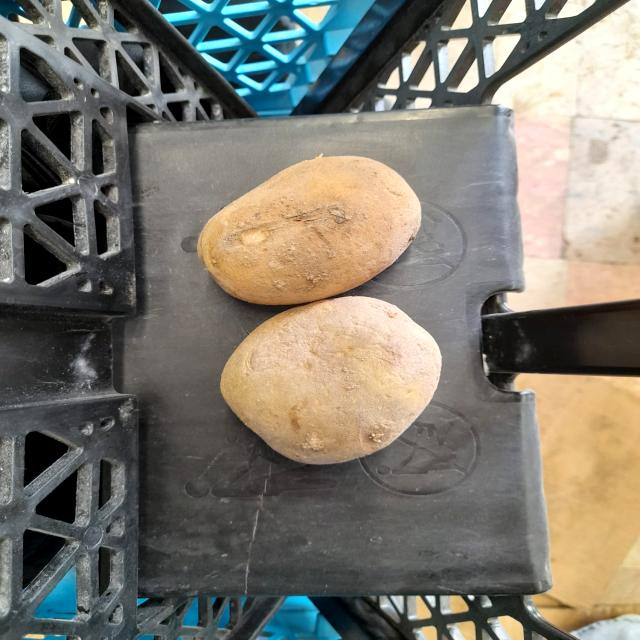potato: (185, 142, 455, 308), (219, 288, 458, 475)
